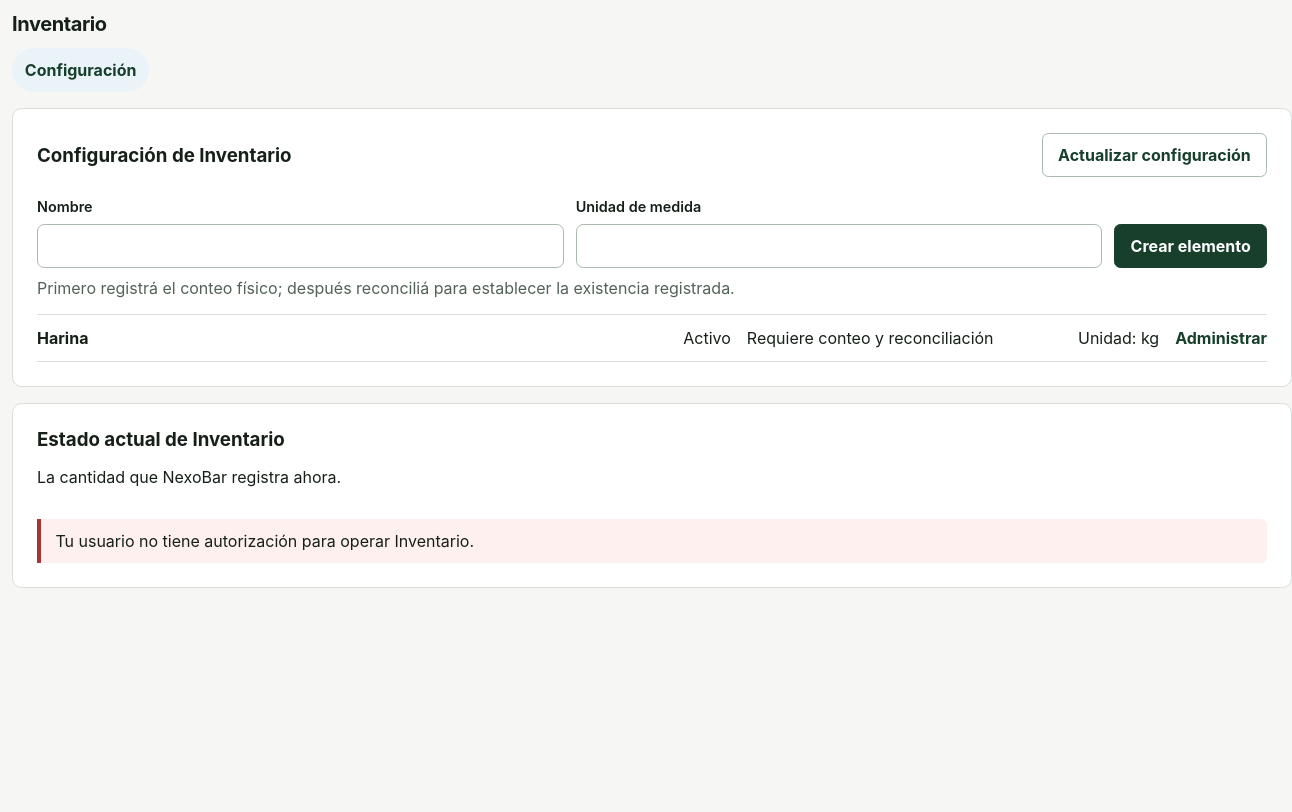
InventoryPanel › treats a 400 validation response as known and permits a corrected intention
The image size is (1292, 812).
Expected: the button "Crear elemento" is shown, [1114,224,1267,268]
Step 1. Type "Inválido" into the field labelled "Nombre" → (300, 246), box [37,224,564,268]
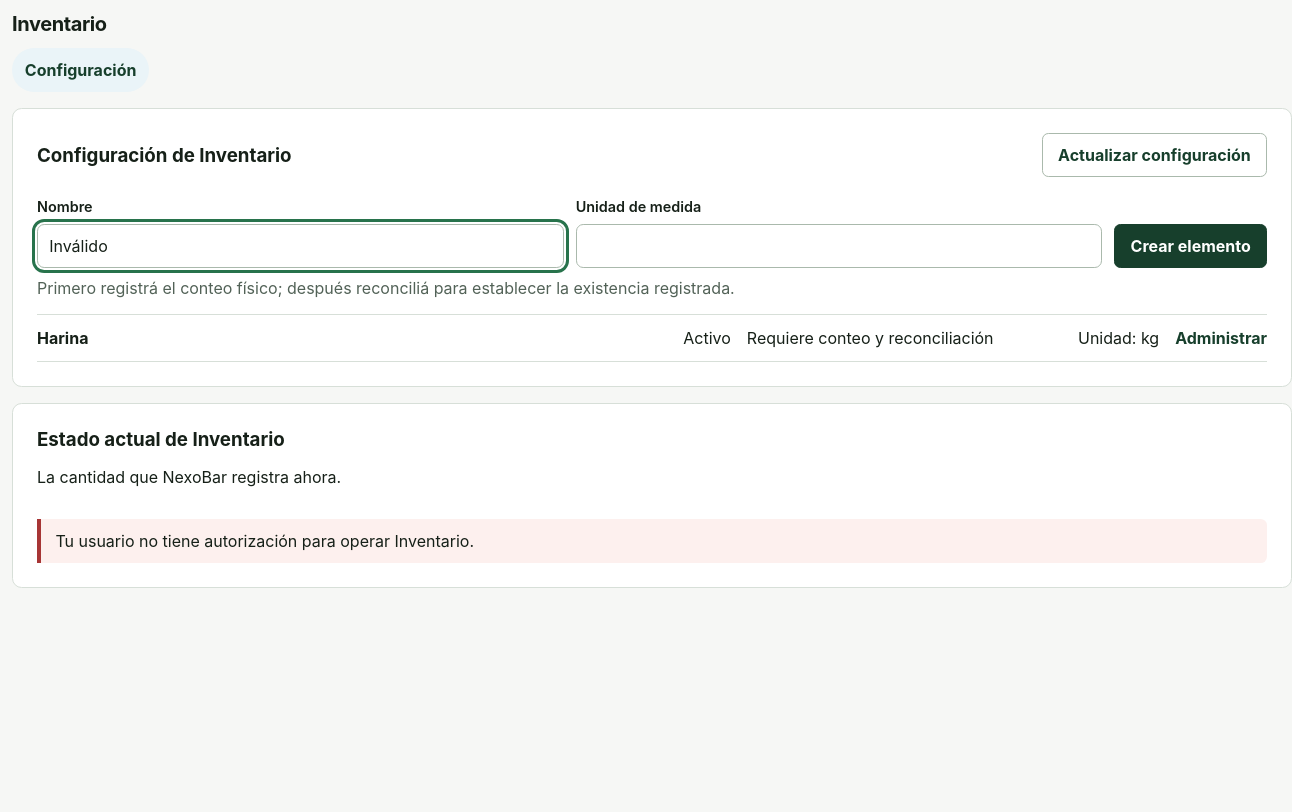
Step 2. Type "kg" into the field labelled "Unidad de medida" → (839, 246), box [576,224,1102,268]
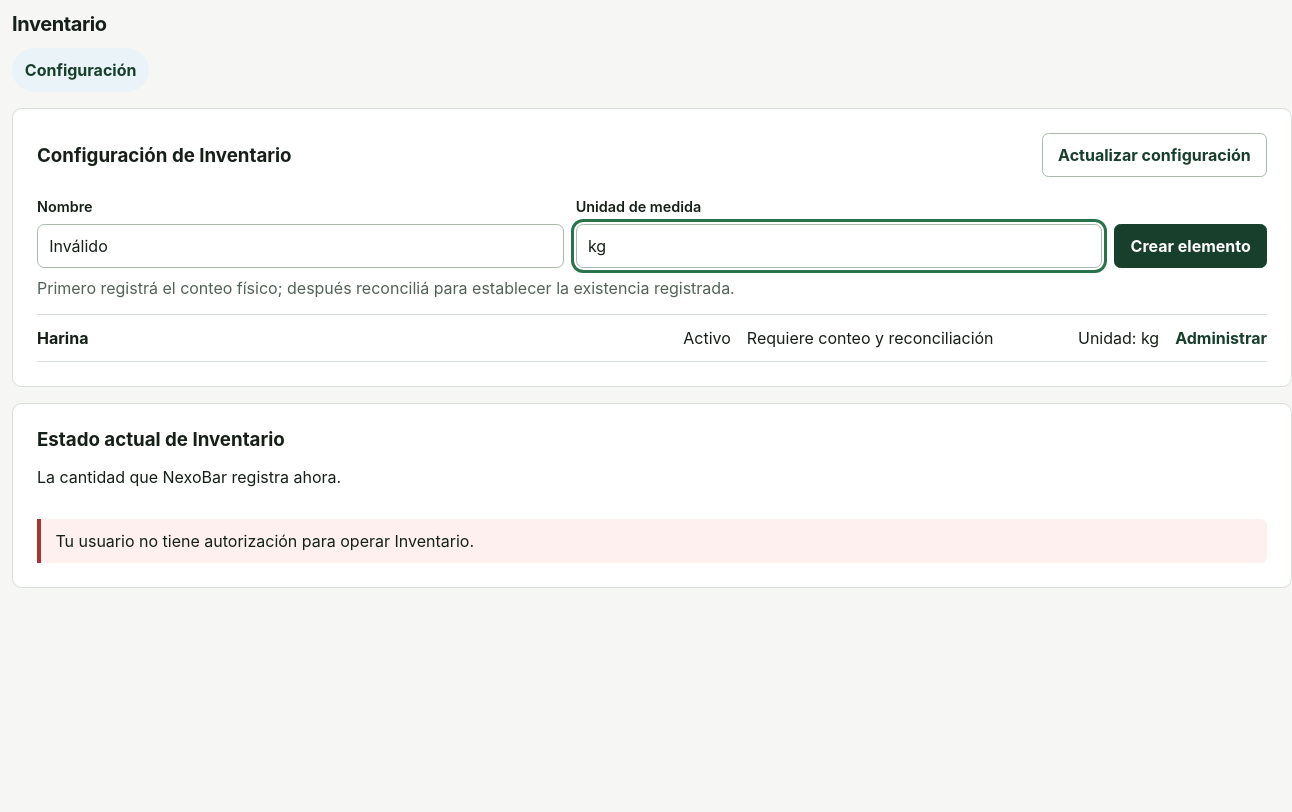
Step 3. Click the button "Crear elemento" → (1191, 246), box [1114,224,1267,268]
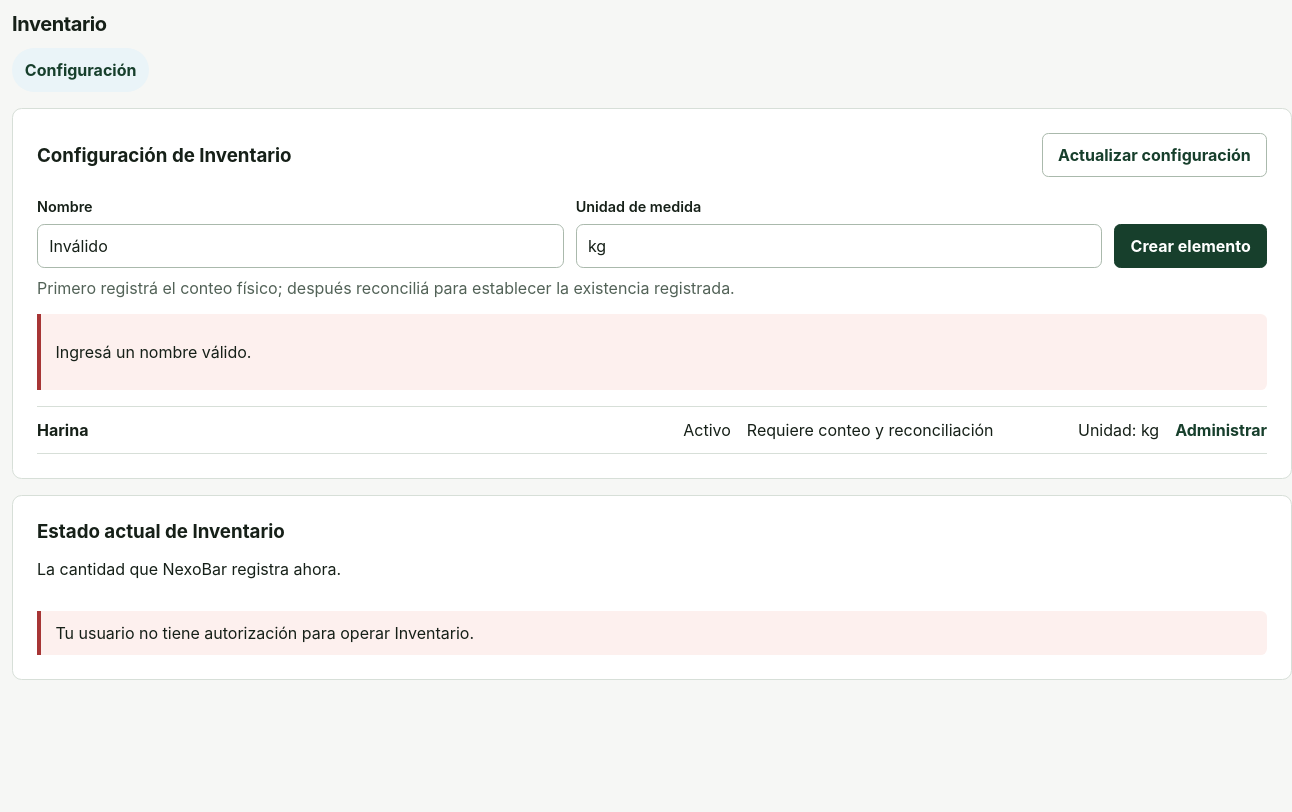
Result: the text "Ingresá un nombre válido." is shown at [55,342,252,362]
